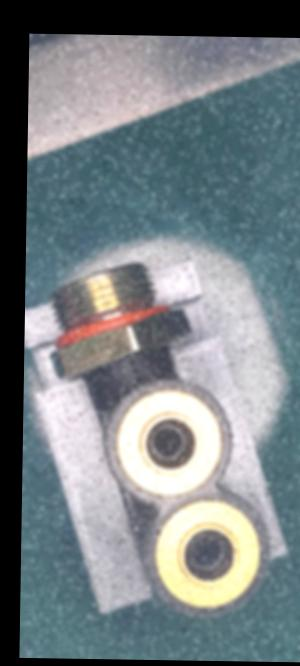craze: (123, 354, 140, 386)
